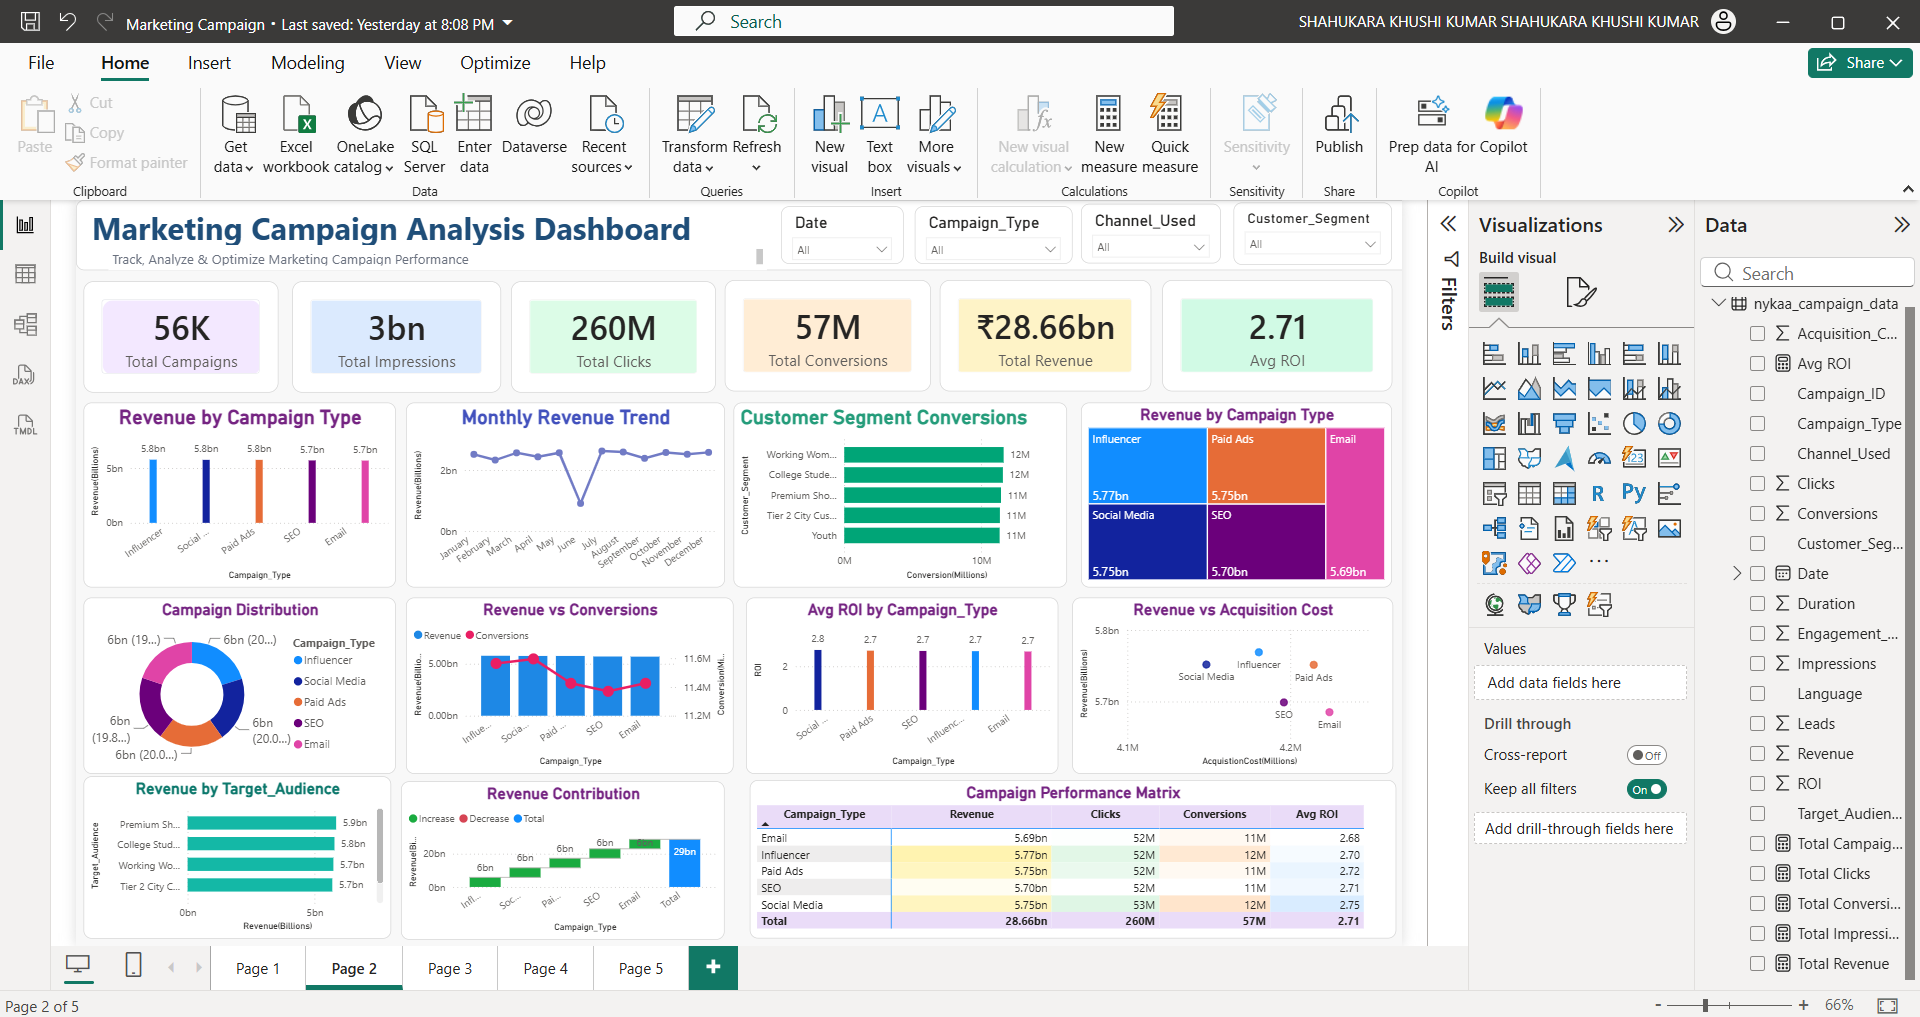

Layout of this report page (visuals, bound fields, positions):
{"tool":"powerbi","page":{"name":"Page 2","canvas":[1600,900],"ordinal":0},"visuals":[{"type":"textbox","box":[0,0,1699.6,84.5],"z":0},{"type":"slicer","fields":{"Values":["nykaa_campaign_data.Date"]},"box":[850.5,7.5,147.8,69.4],"z":1000},{"type":"slicer","fields":{"Values":["nykaa_campaign_data.Campaign_Type"]},"box":[1011.9,7.5,190,69.4],"z":2000},{"type":"slicer","fields":{"Values":["nykaa_campaign_data.Channel_Used"]},"box":[1212.5,4.5,168.9,72.4],"z":3000},{"type":"slicer","fields":{"Values":["nykaa_campaign_data.Customer_Segment"]},"box":[1396.5,3,191.5,75.4],"z":4000},{"type":"textbox","box":[39.2,54.3,794.7,30.2],"z":5000},{"type":"cardVisual","fields":{"Data":["nykaa_campaign_data.Total Campaigns"]},"box":[9,98,235.3,134.2],"z":6000},{"type":"cardVisual","fields":{"Data":["nykaa_campaign_data.Total Impressions"]},"box":[260.9,98,251.8,134.2],"z":7000},{"type":"cardVisual","fields":{"Data":["nykaa_campaign_data.Total Clicks"]},"box":[524.8,98,247.3,134.2],"z":8000},{"type":"cardVisual","fields":{"Data":["nykaa_campaign_data.Total Conversions"]},"box":[782.7,96.5,248.8,134.2],"z":9000},{"type":"cardVisual","fields":{"Data":["nykaa_campaign_data.Total Revenue"]},"box":[1042.1,96.5,254.9,134.2],"z":10000},{"type":"cardVisual","fields":{"Data":["nykaa_campaign_data.Average ROI"]},"box":[1310.5,96.5,277.5,134.2],"z":11000},{"type":"clusteredColumnChart","title":"Revenue by Campaign Type","fields":{"Category":["nykaa_campaign_data.Campaign_Type"],"Y":["Sum(nykaa_campaign_data.Revenue)"],"Series":["nykaa_campaign_data.Campaign_Type"]},"box":[9,244.3,377,223.2],"z":12000},{"type":"lineChart","title":" Monthly Revenue Trend","fields":{"Y":["Sum(nykaa_campaign_data.Revenue)"],"Category":["nykaa_campaign_data.Date.Variation.Date Hierarchy.Month"]},"box":[398.1,244.3,384.6,223.2],"z":13000},{"type":"clusteredBarChart","title":" Customer Segment Conversions","fields":{"Category":["nykaa_campaign_data.Customer_Segment"],"Y":["Sum(nykaa_campaign_data.Conversions)"]},"box":[793.2,244.3,402.6,223.2],"z":14000},{"type":"treemap","title":" Revenue by Campaign Type","fields":{"Group":["nykaa_campaign_data.Campaign_Type"],"Values":["Sum(nykaa_campaign_data.Revenue)"]},"box":[1212.5,244.3,375.5,223.2],"z":15000},{"type":"donutChart","title":" Campaign Distribution","fields":{"Category":["nykaa_campaign_data.Campaign_Type"],"Y":["Sum(nykaa_campaign_data.Revenue)"]},"box":[9,479.6,377,212.6],"z":16000},{"type":"lineClusteredColumnComboChart","title":" Revenue vs Conversions","fields":{"Category":["nykaa_campaign_data.Campaign_Type"],"Y":["Sum(nykaa_campaign_data.Revenue)"],"Y2":["Sum(nykaa_campaign_data.Conversions)"]},"box":[398.1,479.6,395.1,212.6],"z":17000},{"type":"clusteredColumnChart","title":"Avg ROI by Campaign_Type ","fields":{"Category":["nykaa_campaign_data.Campaign_Type"],"Y":["nykaa_campaign_data.Avg ROI"],"Series":["nykaa_campaign_data.Campaign_Type"]},"box":[808.3,479.6,377,212.6],"z":18000},{"type":"waterfallChart","title":"Revenue Contribution","fields":{"Category":["nykaa_campaign_data.Campaign_Type"],"Y":["Sum(nykaa_campaign_data.Revenue)"]},"box":[392.1,701.2,390.6,191.5],"z":19000},{"type":"pivotTable","title":"Campaign Performance Matrix","fields":{"Rows":["nykaa_campaign_data.Campaign_Type"],"Values":["Sum(nykaa_campaign_data.Revenue)","Sum(nykaa_campaign_data.Clicks)","Sum(nykaa_campaign_data.Conversions)","Avg(nykaa_campaign_data.ROI)"]},"box":[812.8,699.7,779.7,191.5],"z":19001},{"type":"scatterChart","title":"Revenue vs Acquisition Cost","fields":{"X":["Sum(nykaa_campaign_data.Acquisition_Cost)"],"Y":["Sum(nykaa_campaign_data.Revenue)"],"Series":["nykaa_campaign_data.Campaign_Type"]},"box":[1201.9,479.6,387.6,212.6],"z":19002},{"type":"clusteredBarChart","title":"Revenue by Target_Audience","fields":{"Category":["nykaa_campaign_data.Target_Audience"],"Y":["Sum(nykaa_campaign_data.Revenue)"]},"box":[9,695.2,371,196],"z":19003}]}

Visuals, with their boxes on the page's 1600x900 design canvas (x1, y1, x2, y2). These are canvas units, not pixel positions in the 1920x1017 screenshot, which may show the page scaled, cropped or inside an application window:
textbox: BBox(0, 0, 1700, 84)
slicer - nykaa_campaign_data.Date: BBox(850, 8, 998, 77)
slicer - nykaa_campaign_data.Campaign_Type: BBox(1012, 8, 1202, 77)
slicer - nykaa_campaign_data.Channel_Used: BBox(1212, 4, 1381, 77)
slicer - nykaa_campaign_data.Customer_Segment: BBox(1396, 3, 1588, 78)
textbox: BBox(39, 54, 834, 84)
cardVisual - nykaa_campaign_data.Total Campaigns: BBox(9, 98, 244, 232)
cardVisual - nykaa_campaign_data.Total Impressions: BBox(261, 98, 513, 232)
cardVisual - nykaa_campaign_data.Total Clicks: BBox(525, 98, 772, 232)
cardVisual - nykaa_campaign_data.Total Conversions: BBox(783, 96, 1032, 231)
cardVisual - nykaa_campaign_data.Total Revenue: BBox(1042, 96, 1297, 231)
cardVisual - nykaa_campaign_data.Average ROI: BBox(1310, 96, 1588, 231)
"Revenue by Campaign Type" clusteredColumnChart: BBox(9, 244, 386, 468)
" Monthly Revenue Trend" lineChart: BBox(398, 244, 783, 468)
" Customer Segment Conversions" clusteredBarChart: BBox(793, 244, 1196, 468)
" Revenue by Campaign Type" treemap: BBox(1212, 244, 1588, 468)
" Campaign Distribution" donutChart: BBox(9, 480, 386, 692)
" Revenue vs Conversions" lineClusteredColumnComboChart: BBox(398, 480, 793, 692)
"Avg ROI by Campaign_Type " clusteredColumnChart: BBox(808, 480, 1185, 692)
"Revenue Contribution" waterfallChart: BBox(392, 701, 783, 893)
"Campaign Performance Matrix" pivotTable: BBox(813, 700, 1592, 891)
"Revenue vs Acquisition Cost" scatterChart: BBox(1202, 480, 1590, 692)
"Revenue by Target_Audience" clusteredBarChart: BBox(9, 695, 380, 891)
